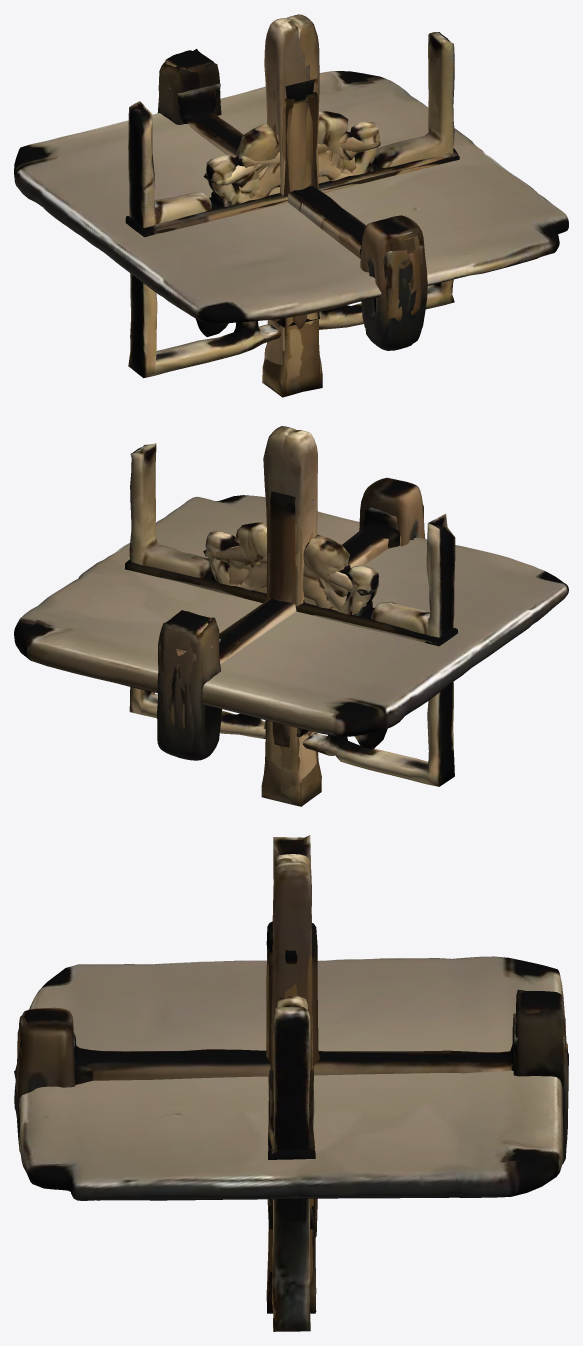
3 views of the same model, one above another, from view 1: azimuth 30°, elevation 25°; view 2: azimuth 150°, elevation 25°; view 3: azimuth 270°, elevation 25° (orthographic). The views are drawn at different scales.
Visible parts, largest first — view 1: root.1, root.0.2, root.0.7, root.0.1, root.0.4, root.0.0, root.0.5, root.0.6, root.0.3, root.4, root.3, root.6 (+6 smaller); view 2: root.1, root.0.2, root.0.0, root.0.7, root.0.1, root.0.5, root.0.3, root.4, root.0.6, root.3, root.7, root.2 (+5 smaller); view 3: root.1, root.0.2, root.0.4, root.0.5, root.0.1, root.0.0, root.0.3, root.7, root.0.7, root.0.6, root.0.11.
Part boxes in pixels (x1,y1,x2,y2): root.1: (14, 71, 568, 323); root.0.2: (128, 32, 454, 378); root.0.7: (264, 18, 322, 394); root.0.1: (165, 49, 422, 350); root.0.4: (167, 85, 420, 321); root.0.0: (157, 50, 427, 349); root.0.5: (262, 14, 320, 397); root.0.6: (125, 148, 458, 237); root.0.3: (184, 83, 424, 286); root.4: (206, 137, 380, 205); root.3: (203, 121, 379, 198); root.6: (272, 83, 308, 329); root.1: (14, 495, 568, 737); root.0.2: (129, 443, 455, 786); root.0.0: (160, 477, 404, 760); root.0.7: (261, 430, 317, 805); root.0.1: (157, 480, 425, 758); root.0.5: (263, 426, 321, 806); root.0.3: (159, 507, 401, 727); root.4: (203, 546, 378, 614); root.0.6: (125, 559, 457, 645); root.3: (205, 531, 378, 610); root.7: (269, 491, 307, 747); root.2: (211, 534, 366, 614); root.1: (19, 956, 563, 1200); root.0.2: (272, 835, 310, 1331); root.0.4: (15, 1013, 567, 1121); root.0.5: (266, 862, 316, 1311); root.0.1: (14, 990, 568, 1164); root.0.0: (14, 989, 567, 1147); root.0.3: (14, 1016, 568, 1086); root.7: (266, 923, 320, 1237); root.0.7: (266, 854, 316, 1313); root.0.6: (268, 1069, 315, 1159); root.0.11: (268, 952, 312, 1069).
Bounding box in the file's own units: 18527 × 17056 × 19477.
1 material, 1 textured.
